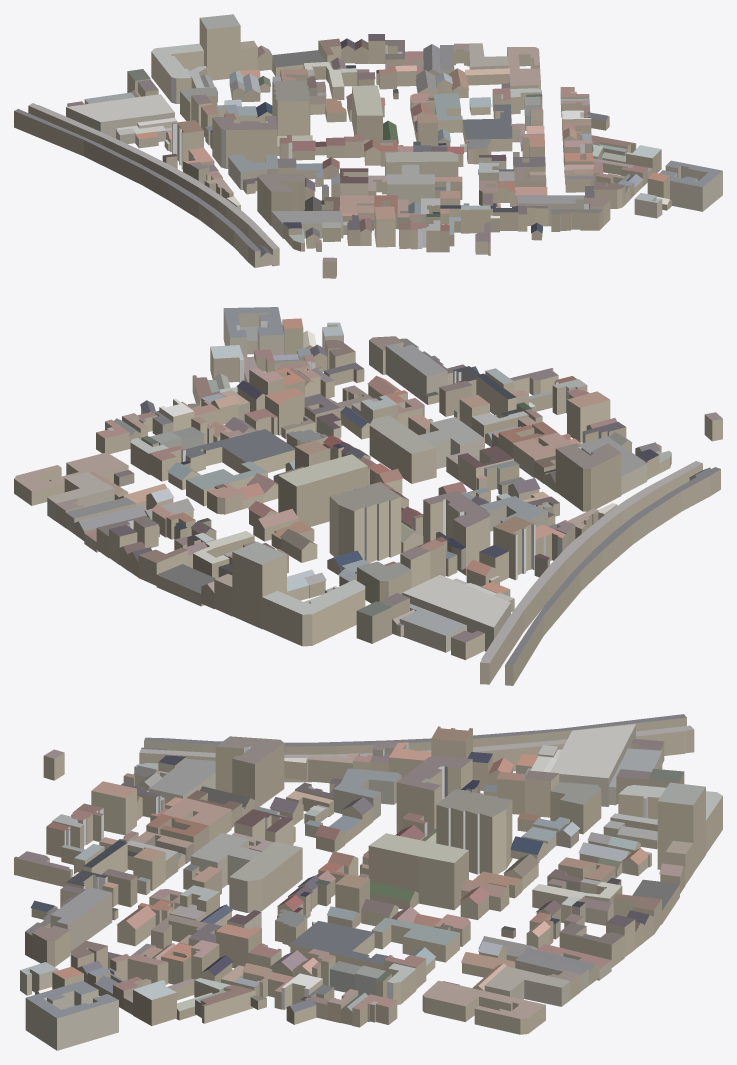
The picture shows the model from 3 angles, top to bottom: view 1: azimuth 30°, elevation 25°; view 2: azimuth 150°, elevation 25°; view 3: azimuth 270°, elevation 25°; orthographic projection. The views are drawn at different scales.
Parts seen in each view (by area): view 1: tuile; view 2: tuile; view 3: tuile.
Part boxes in pixels (bbox=[...]): tuile: bbox=[14, 14, 722, 278]; tuile: bbox=[14, 307, 722, 685]; tuile: bbox=[14, 714, 722, 1050].
Size of the model in its own units: 279 by 36.82 by 276.
